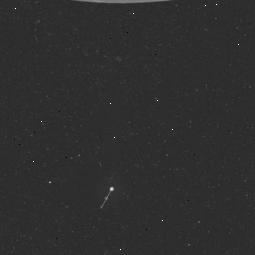earth_observation_sat_1: (49, 148, 168, 244)
